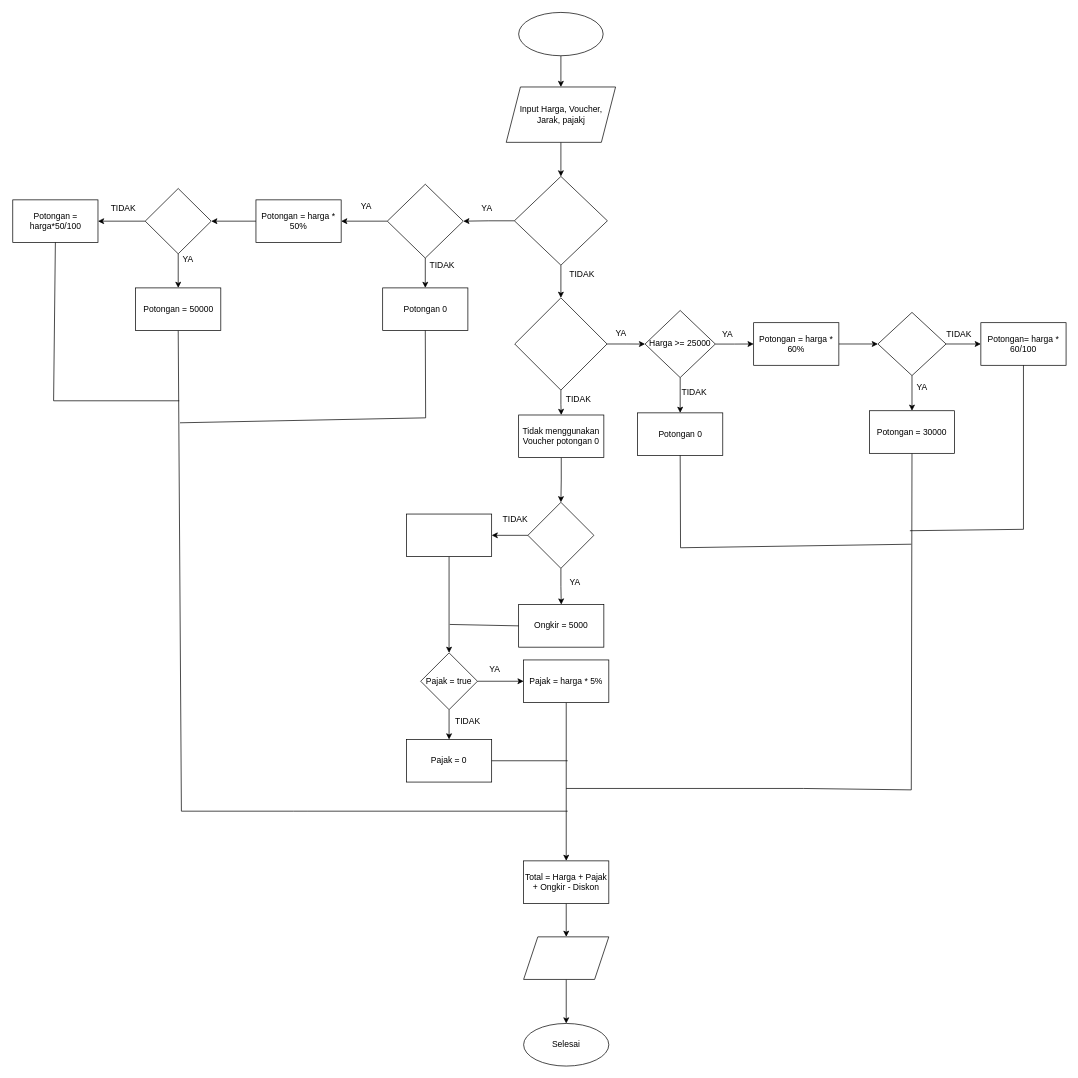
The diagram is 1078 pixels wide and 1078 high, and some of its shapes have lost their labels. Each missing label, with the box of its shape:
Harga >= 50000: (387, 184, 463, 258)
if Voucher == "‘DITRAKTIRDEMY’: (514, 297, 607, 390)
Jarak <= 2km: (527, 502, 594, 568)
Ongkir = 5000 + ((jarak - 2) * 3000): (406, 513, 492, 557)
Output Total: (523, 936, 609, 979)
Potongan >= 30000: (877, 312, 946, 376)
Potongan >= 50000: (144, 188, 211, 254)
Start: (518, 12, 603, 56)
Voucher == "‘ARKAFOOD5’: (514, 176, 607, 265)
